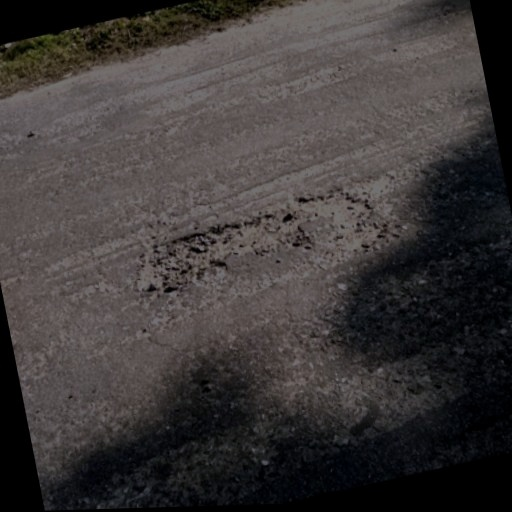pothole: (122, 178, 384, 302)
